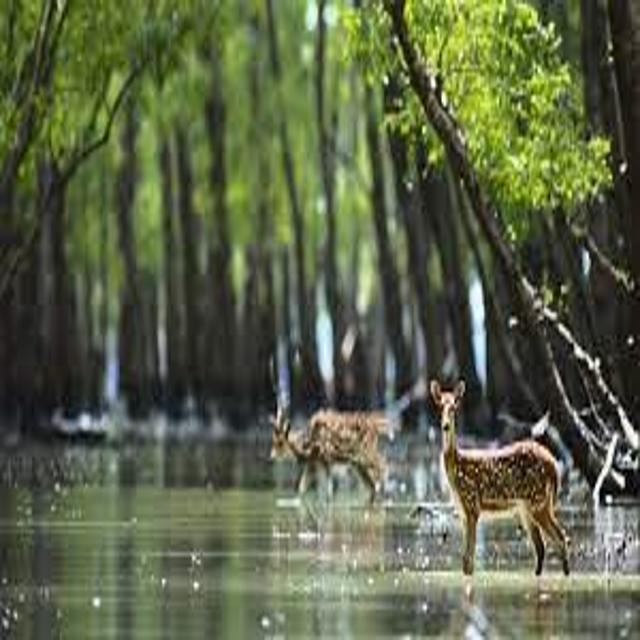Deer: (425, 361, 586, 597), (255, 370, 392, 513)
